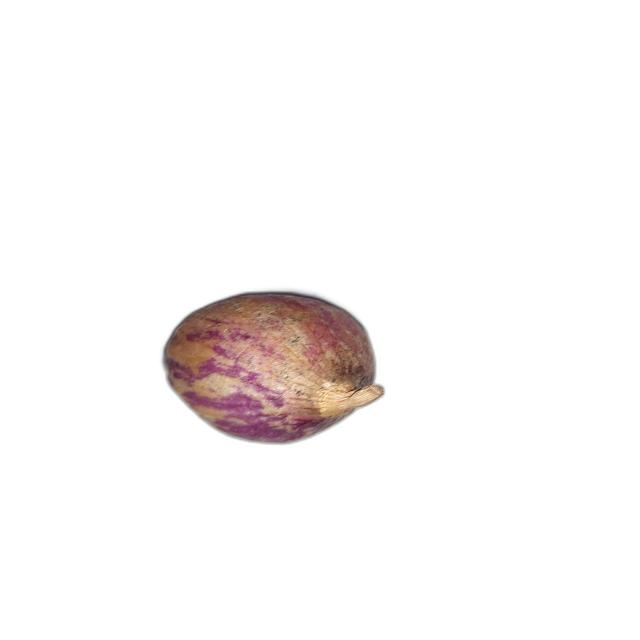onion: (162, 290, 386, 445)
